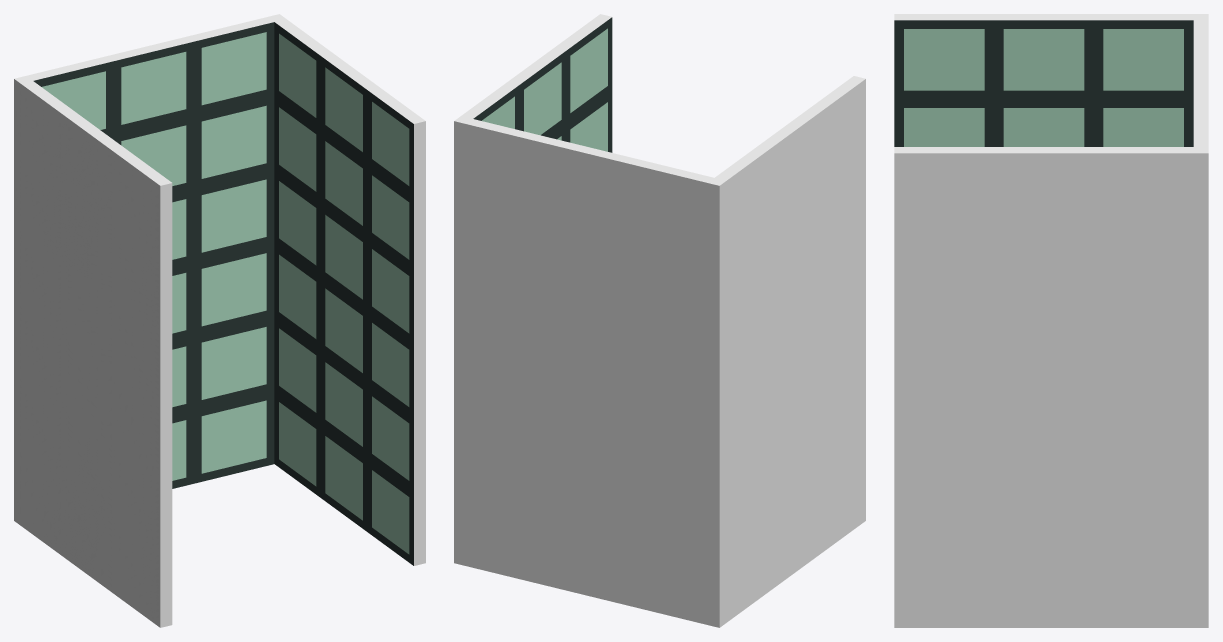
File: Prop_WallCShape_06.fbx
3 renders of one model, left to right at view 1: azimuth 30°, elevation 25°; view 2: azimuth 150°, elevation 25°; view 3: azimuth 270°, elevation 25°, orthographic. The views are drawn at different scales.
Parts seen in each view (by area): view 1: Prop_WallCShape_06; view 2: Prop_WallCShape_06; view 3: Prop_WallCShape_06.
Boxes of the visible parts, x1,y1,x2,y2 form: Prop_WallCShape_06: (14, 14, 425, 627); Prop_WallCShape_06: (454, 14, 865, 627); Prop_WallCShape_06: (894, 14, 1208, 627).
Bounding box in the file's own units: 220 × 350 × 210.
